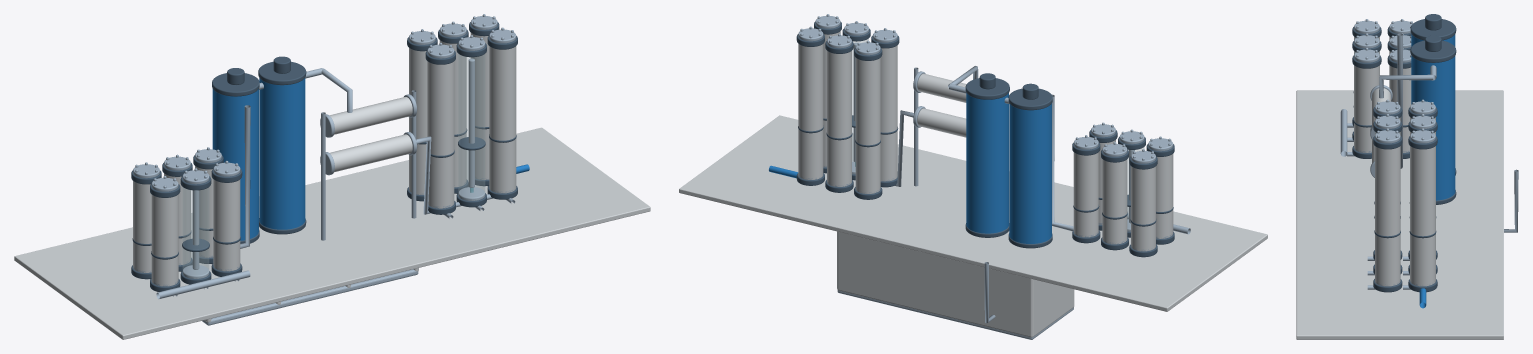
The model's file is Oceanides-EC-AOP-Master.glb.
The picture shows the model from 3 angles, left to right: view 1: azimuth 30°, elevation 25°; view 2: azimuth 150°, elevation 25°; view 3: azimuth 270°, elevation 25°; orthographic projection. The views are drawn at different scales.
Parts seen in each view (by area): view 1: Equipment floor slab, Blue filtration vessel 1, AOP vessel 0 2 body, Blue filtration vessel 0, AOP vessel 0 0 body, AOP vessel 0 1 body, EC reactor 0 2 body, EC reactor 0 0 body, EC reactor 0 1 body, AOP vessel 1 0 body, AOP vessel 1 2 body, AOP vessel 1 1 body (+15 smaller); view 2: Equipment floor slab, Underground tank back, Blue filtration vessel 0, Blue filtration vessel 1, AOP vessel 1 0 body, AOP vessel 1 2 body, AOP vessel 1 1 body, AOP vessel 0 0 body, EC reactor 1 1 body, EC reactor 1 2 body, EC reactor 1 0 body, Underground chamber partition (+8 smaller); view 3: Equipment floor slab, Blue filtration vessel 1, AOP vessel 1 2 body, AOP vessel 0 2 body, EC reactor 0 2 body, EC reactor 1 2 body, Blue vessel collar.003, Blue vessel collar.001, EC transfer, Fractionation pipe, EC inlet manifold, Residuals handling line (+20 smaller).
Part boxes in pixels (bbox=[...]): Equipment floor slab: bbox=[14, 127, 650, 339]; Blue filtration vessel 1: bbox=[259, 78, 305, 229]; AOP vessel 0 2 body: bbox=[489, 46, 516, 193]; Blue filtration vessel 0: bbox=[212, 89, 258, 240]; AOP vessel 0 0 body: bbox=[427, 61, 454, 208]; AOP vessel 0 1 body: bbox=[458, 54, 484, 200]; EC reactor 0 2 body: bbox=[213, 179, 240, 271]; EC reactor 0 0 body: bbox=[151, 194, 178, 286]; EC reactor 0 1 body: bbox=[183, 187, 208, 278]; AOP vessel 1 0 body: bbox=[409, 48, 427, 194]; AOP vessel 1 2 body: bbox=[470, 33, 489, 179]; AOP vessel 1 1 body: bbox=[439, 40, 466, 187]; Equipment floor slab: bbox=[679, 115, 1267, 311]; Underground tank back: bbox=[837, 231, 1032, 337]; Blue filtration vessel 0: bbox=[1009, 103, 1051, 243]; Blue filtration vessel 1: bbox=[966, 93, 1008, 233]; AOP vessel 1 0 body: bbox=[855, 58, 880, 193]; AOP vessel 1 2 body: bbox=[798, 44, 823, 179]; AOP vessel 1 1 body: bbox=[827, 51, 851, 186]; AOP vessel 0 0 body: bbox=[880, 45, 897, 181]; EC reactor 1 1 body: bbox=[1102, 159, 1127, 244]; EC reactor 1 2 body: bbox=[1073, 152, 1098, 237]; EC reactor 1 0 body: bbox=[1131, 166, 1155, 251]; Underground chamber partition: bbox=[1032, 279, 1074, 337]; Equipment floor slab: bbox=[1296, 90, 1503, 339]; Blue filtration vessel 1: bbox=[1411, 56, 1455, 200]; AOP vessel 1 2 body: bbox=[1410, 146, 1435, 286]; AOP vessel 0 2 body: bbox=[1375, 146, 1400, 286]; EC reactor 0 2 body: bbox=[1354, 65, 1379, 152]; EC reactor 1 2 body: bbox=[1389, 65, 1411, 152]; Blue vessel collar.003: bbox=[1410, 40, 1456, 62]; Blue vessel collar.001: bbox=[1410, 19, 1456, 40]; EC transfer: bbox=[1397, 33, 1402, 168]; Fractionation pipe: bbox=[1379, 74, 1433, 98]; EC inlet manifold: bbox=[1340, 109, 1347, 156]; Residuals handling line: bbox=[1504, 169, 1518, 232].
Bounding box in the file's own units: 14 × 6.05 × 5.35.
